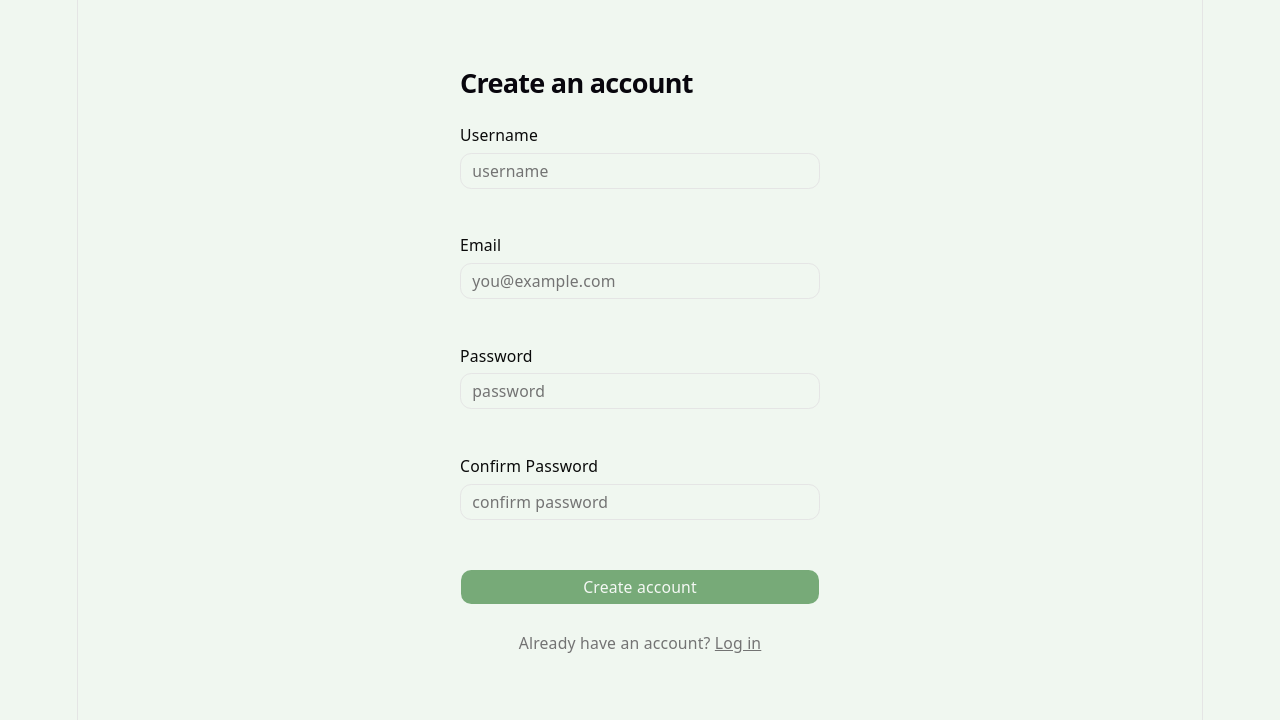
Register › submit button enables when required fields are valid
Type "alice" into the field labelled "Username" at [640, 171], box left=460, top=153, right=820, bottom=189
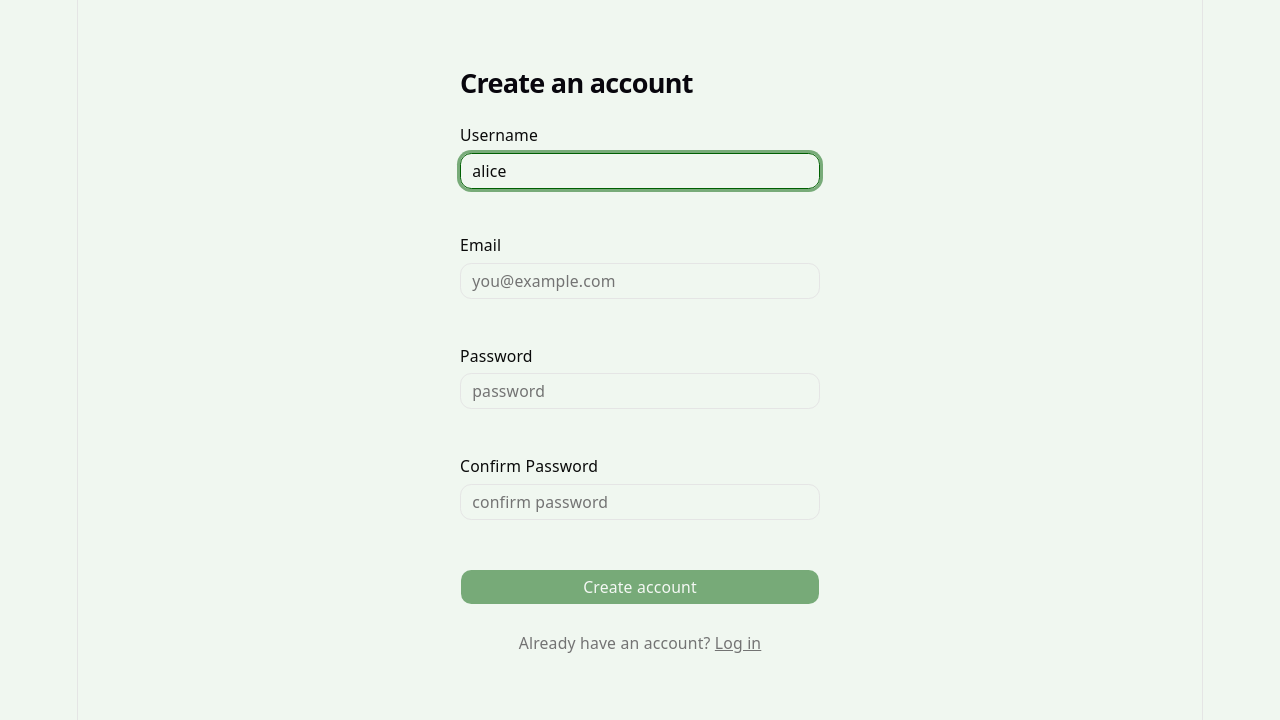
Type "alice@example.com" into the field labelled "Email" at [640, 281], box left=460, top=263, right=820, bottom=299
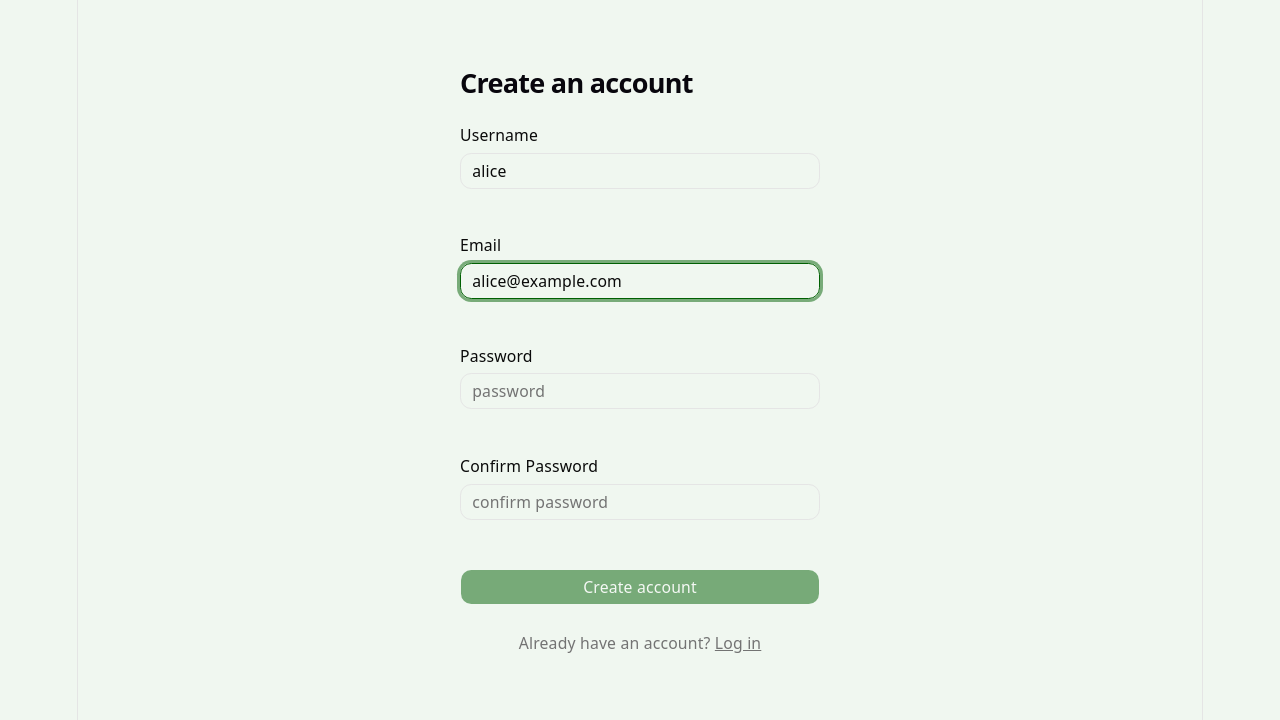
Type "securepass" into the password field labelled "Password" at [640, 392], box left=460, top=374, right=820, bottom=410
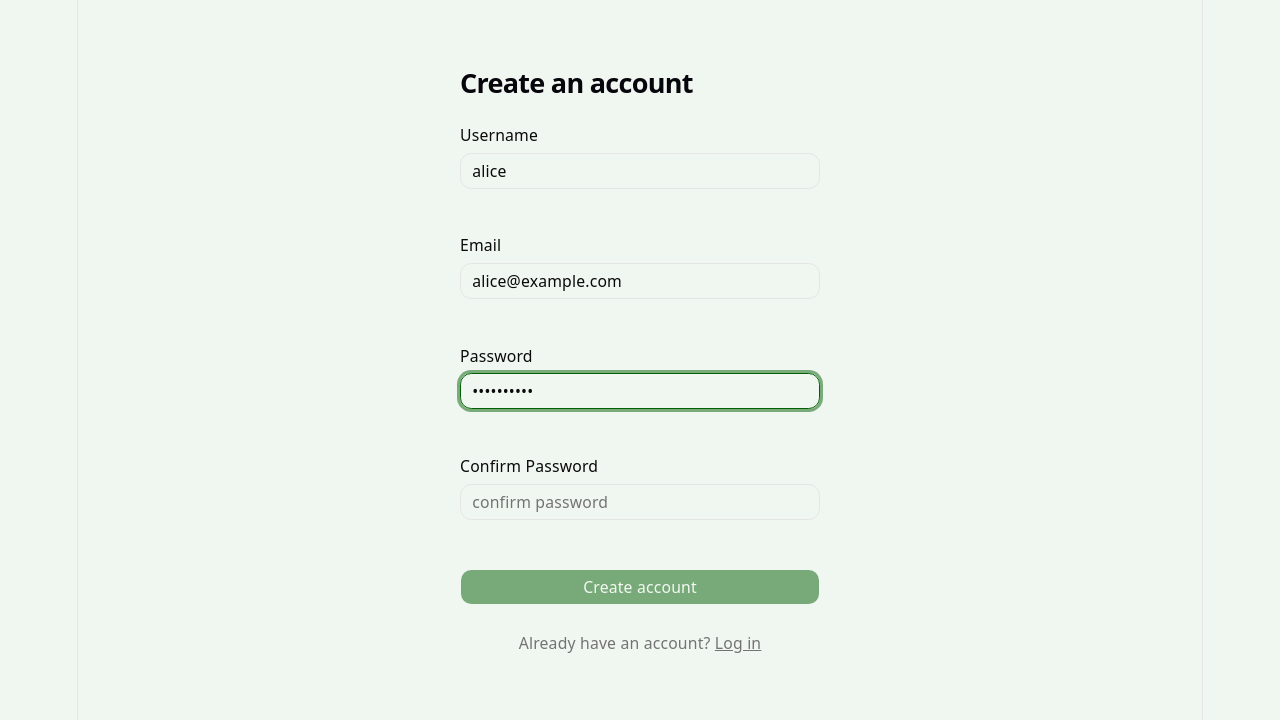
Type "securepass" into the password field labelled "Confirm Password" at [640, 502], box left=460, top=484, right=820, bottom=520
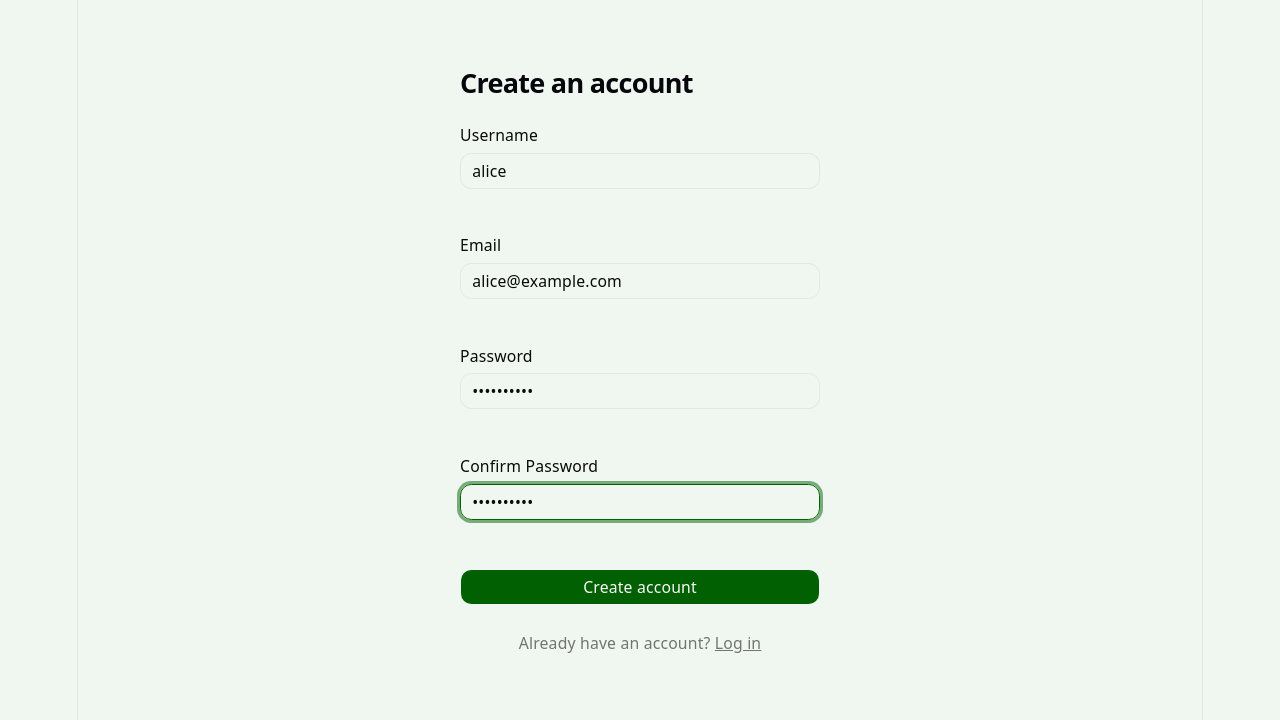
Expected: the button "Create account" is enabled, left=460, top=569, right=820, bottom=605
